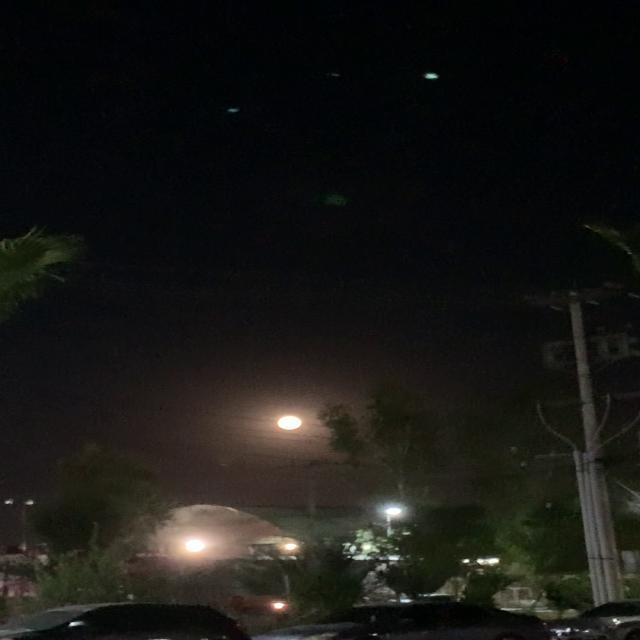moon: (264, 414, 316, 439)
